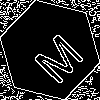M: (25, 25, 87, 87)
